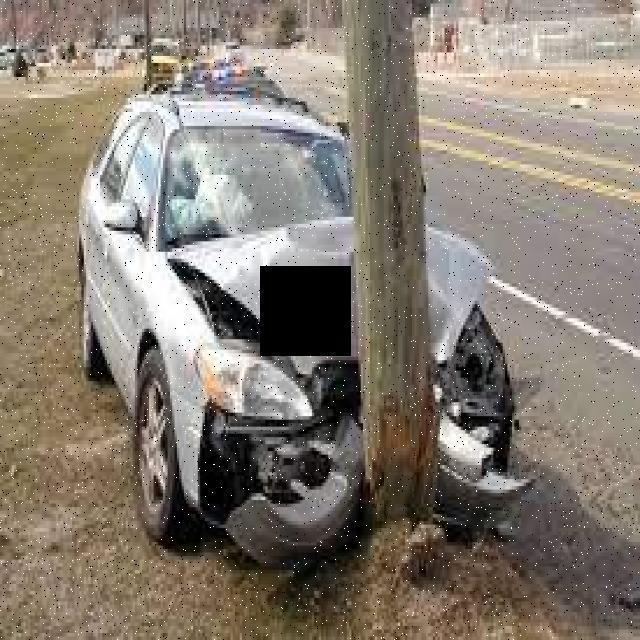accident: (67, 80, 555, 583)
